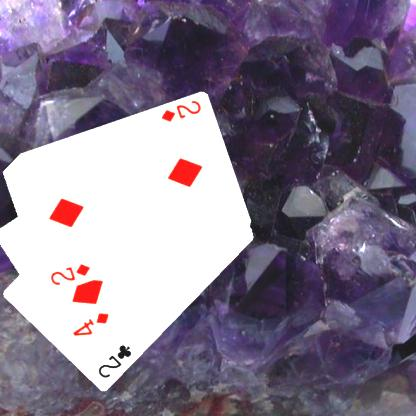2C: (95, 342, 133, 380)
2D: (158, 97, 202, 124), (47, 261, 91, 287)
4D: (70, 310, 110, 338)
